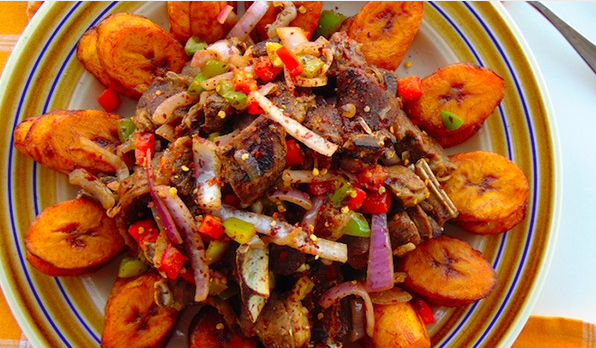carottes: (397, 77, 421, 96)
oignon: (150, 188, 188, 234)
plantain: (454, 151, 522, 220)
poivron: (218, 79, 247, 104)
tomate: (258, 60, 274, 79)
viande: (333, 68, 391, 143)
